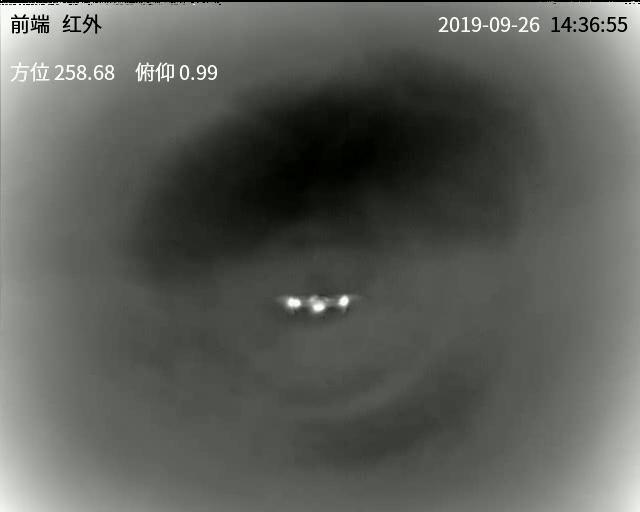DRONE: (285, 293, 351, 320)
